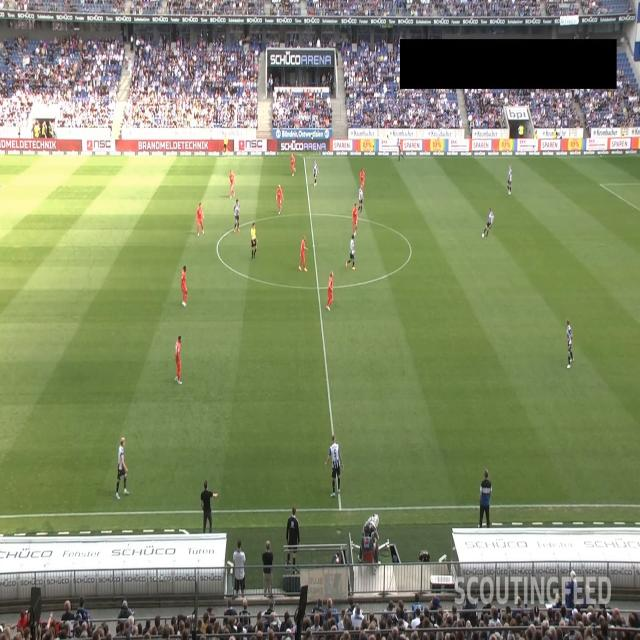ball: (481, 232, 485, 239)
